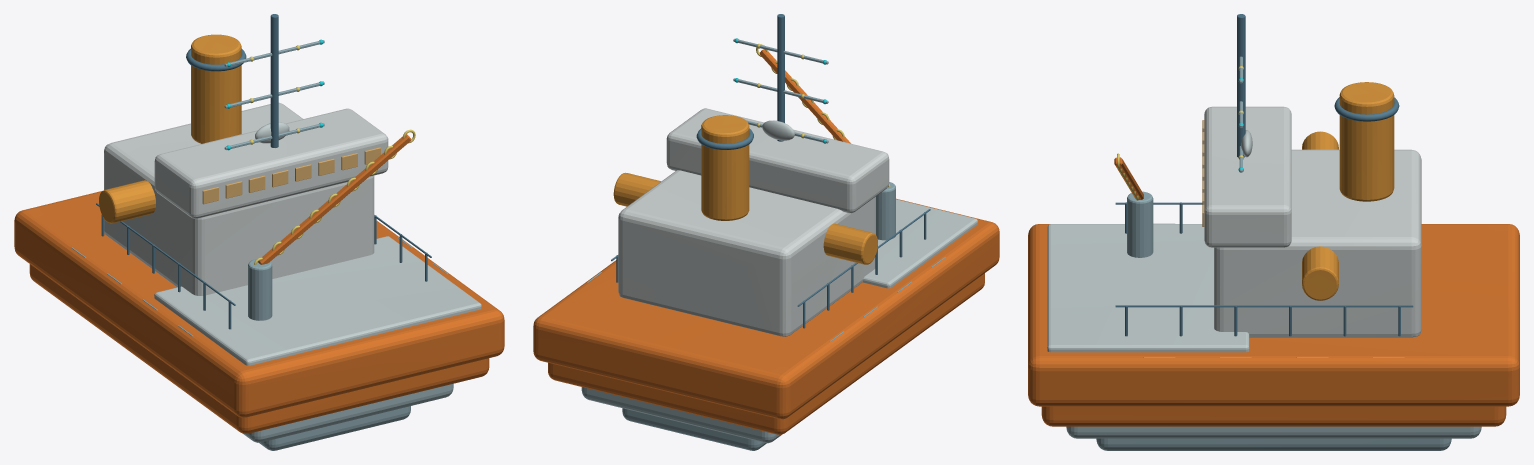
The model's file is runner_day_icebreaker_landmark_v1.glb.
The picture shows the model from 3 angles, left to right: view 1: azimuth 30°, elevation 25°; view 2: azimuth 150°, elevation 25°; view 3: azimuth 270°, elevation 25°; orthographic projection. The views are drawn at different scales.
Visible parts, largest first — view 1: runner_day_icebreaker_landmark_v1; view 2: runner_day_icebreaker_landmark_v1; view 3: runner_day_icebreaker_landmark_v1.
Part boxes in pixels (x1,y1,x2,y2): runner_day_icebreaker_landmark_v1: (14,14,504,450); runner_day_icebreaker_landmark_v1: (533,14,999,450); runner_day_icebreaker_landmark_v1: (1028,14,1519,450).
Bounding box in the file's own units: 12.2 × 16.2 × 18.
